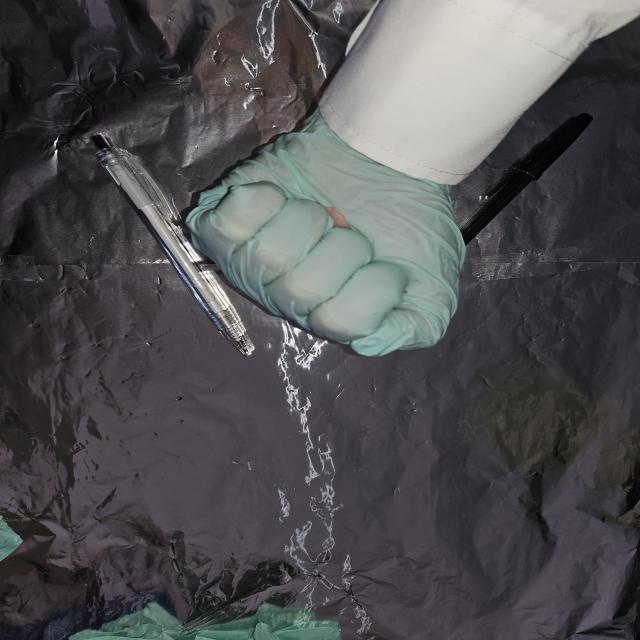gloves_damaged: (181, 120, 468, 360)
